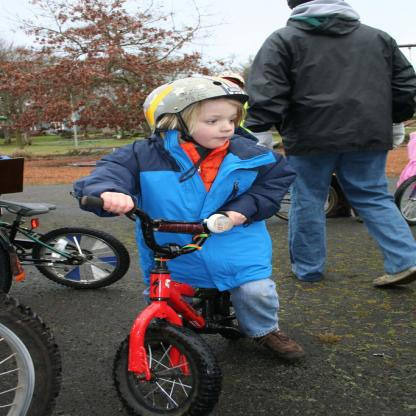Helmet: (147, 73, 258, 144)
